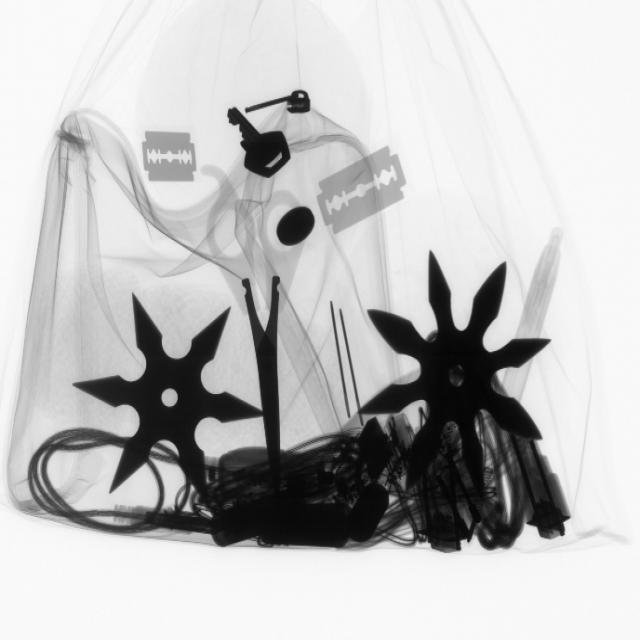BLADE: (314, 139, 414, 239), (137, 124, 205, 195)
SHURIKEN: (363, 243, 555, 503), (81, 291, 258, 504)
